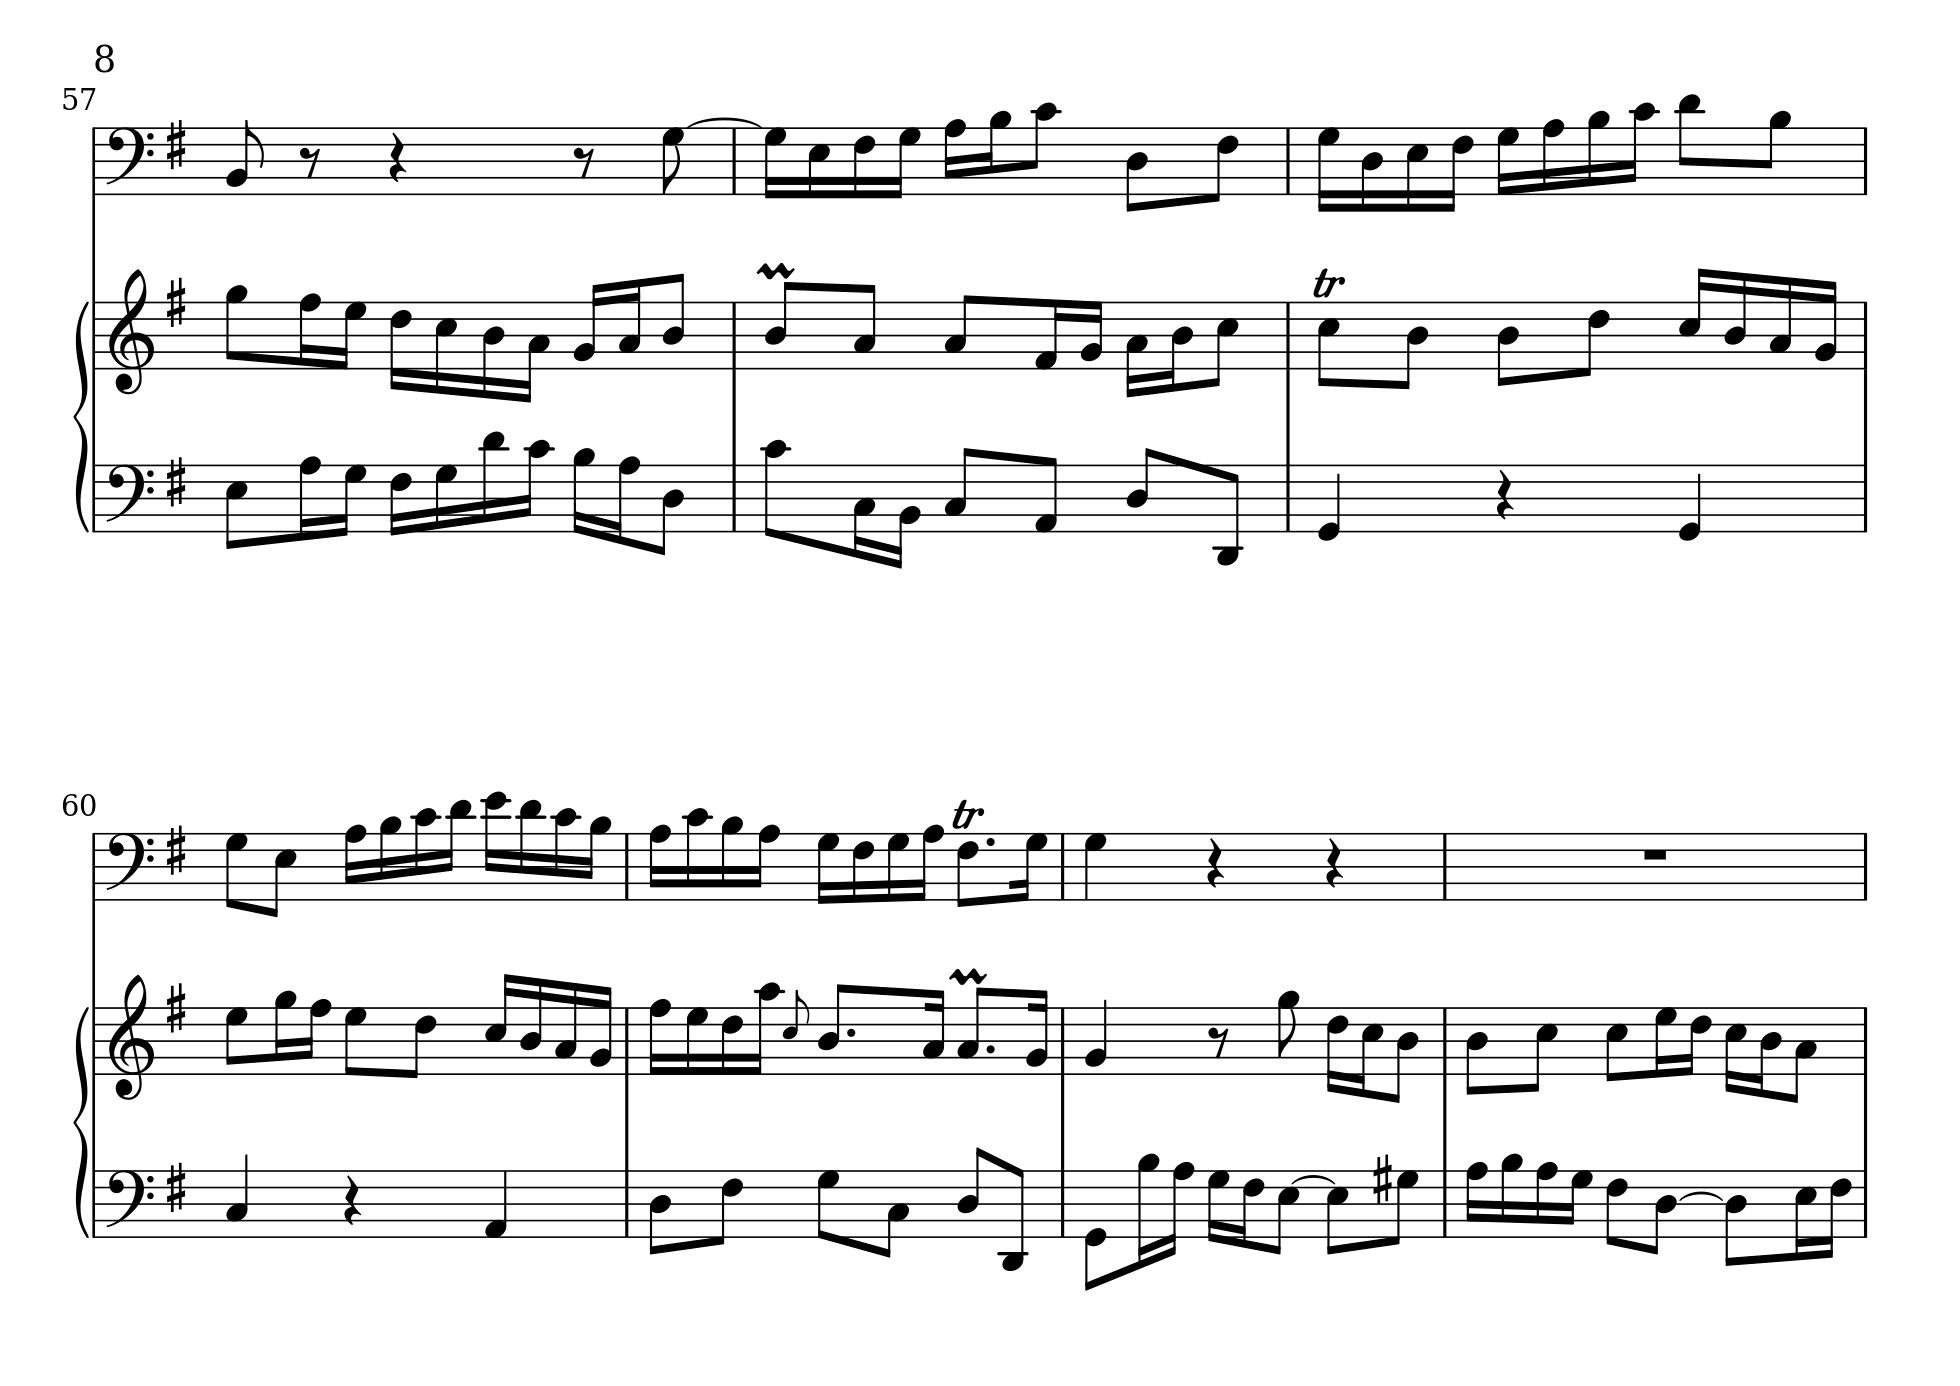0: (79, 790, 96, 817)
16_1: (1032, 298, 1065, 372)
16_10: (747, 979, 783, 1078), (1623, 100, 1659, 196), (520, 438, 553, 534), (550, 805, 580, 901), (682, 805, 712, 901), (411, 805, 439, 901)
16_11: (441, 798, 474, 901), (478, 430, 508, 534), (516, 798, 544, 901)
16_12: (481, 790, 508, 901)
16_2: (889, 463, 922, 570), (571, 280, 604, 370), (588, 982, 613, 1075), (1024, 987, 1050, 1075), (1815, 277, 1839, 370), (1080, 298, 1104, 370)
16_3: (519, 298, 550, 403), (1767, 273, 1794, 370), (852, 462, 877, 562), (553, 979, 579, 1075), (919, 987, 946, 1075), (1125, 300, 1149, 399), (616, 277, 642, 370)
16_4: (1164, 298, 1194, 393), (1753, 1003, 1782, 1099), (480, 298, 505, 400), (1723, 270, 1749, 370), (519, 976, 544, 1075), (1359, 124, 1386, 214)
16_5: (1677, 265, 1713, 370), (484, 970, 516, 1075), (433, 298, 459, 396), (1404, 124, 1429, 213), (1723, 1003, 1747, 1093), (1794, 1168, 1816, 1260), (805, 124, 831, 201)
16_6: (1440, 124, 1474, 213), (1819, 1167, 1852, 1258), (1236, 1168, 1264, 1249), (388, 298, 412, 391), (1326, 1003, 1350, 1093), (1683, 1005, 1713, 1075), (850, 124, 876, 199), (850, 829, 876, 904), (718, 1003, 744, 1078), (388, 462, 412, 537)
16_7: (1011, 831, 1048, 903), (334, 462, 367, 538), (888, 124, 921, 199), (334, 298, 367, 370), (1563, 1167, 1594, 1239), (1317, 124, 1341, 216), (814, 829, 840, 907), (883, 829, 910, 903), (684, 1003, 709, 1078), (1495, 124, 1521, 198), (432, 460, 457, 534), (763, 124, 787, 202), (1206, 1167, 1230, 1245), (1653, 1003, 1677, 1078)
16_8: (1162, 1159, 1194, 1258), (607, 454, 640, 547), (748, 823, 781, 901), (913, 823, 943, 901), (301, 997, 331, 1075), (940, 117, 967, 196), (646, 822, 673, 901), (646, 996, 673, 1075), (1533, 1159, 1560, 1239), (297, 454, 321, 541), (1540, 117, 1566, 196), (297, 292, 322, 370), (342, 823, 367, 901), (1464, 1159, 1489, 1237)
16_9: (1135, 1150, 1161, 1267), (981, 109, 1012, 196), (583, 814, 613, 901), (376, 814, 403, 901), (1585, 108, 1611, 196), (718, 814, 744, 903), (1498, 1150, 1524, 1239), (271, 988, 297, 1075), (571, 445, 595, 537)
4_0: (1678, 462, 1704, 543), (1317, 462, 1342, 541)
4_1: (481, 1168, 508, 1240)
4_2: (1083, 997, 1110, 1075)
4_3: (225, 1152, 250, 1237)
4_7: (1083, 831, 1108, 901)
5: (61, 84, 78, 111)
6: (61, 790, 79, 817)
7: (79, 85, 97, 111)
8: (94, 40, 115, 73)
8_-3: (999, 1164, 1029, 1272), (1215, 463, 1243, 565)
8_0: (1083, 1168, 1107, 1291)
8_1: (1032, 454, 1059, 535)
8_10: (1026, 100, 1060, 196), (760, 436, 790, 541)
8_11: (1675, 91, 1704, 196)
8_2: (225, 118, 265, 195)
8_3: (876, 1168, 910, 1258), (943, 445, 976, 534), (1789, 1005, 1818, 1105), (955, 985, 987, 1075), (942, 292, 976, 370), (850, 282, 877, 372)
8_4: (1395, 298, 1431, 391), (1389, 1005, 1420, 1104), (652, 463, 685, 556), (817, 982, 850, 1075), (763, 280, 796, 370), (955, 1144, 987, 1237), (1125, 445, 1158, 534), (1645, 1168, 1677, 1255), (1723, 1168, 1749, 1267), (1494, 298, 1521, 388), (661, 271, 685, 370), (646, 1168, 673, 1255), (1465, 1006, 1491, 1096), (1123, 126, 1149, 214)
8_5: (1524, 1005, 1560, 1093), (1207, 298, 1240, 388), (1269, 1168, 1302, 1255), (267, 829, 298, 919), (1354, 1005, 1383, 1098), (1315, 298, 1341, 388), (223, 462, 249, 550), (1326, 1168, 1350, 1255), (1605, 1005, 1629, 1083)
8_6: (1575, 298, 1611, 379), (708, 1167, 744, 1246), (1204, 124, 1239, 205), (402, 1003, 438, 1078), (955, 831, 981, 909), (1605, 1168, 1629, 1248)
8_7: (1386, 1167, 1419, 1246), (223, 829, 249, 910), (814, 1168, 841, 1243), (660, 126, 685, 196), (223, 1005, 249, 1075), (343, 1005, 367, 1077)
8_9: (1758, 109, 1792, 196), (1275, 988, 1300, 1075), (223, 283, 247, 370)
Appoggiature: (781, 988, 808, 1077)
Brace: (70, 1003, 91, 1240), (70, 298, 91, 532)
Fclef: (100, 124, 154, 196), (100, 829, 154, 901), (103, 460, 154, 534), (103, 1167, 154, 1237)
Gclef: (106, 973, 156, 1099), (106, 268, 154, 394)
Rests1: (1639, 844, 1671, 862)
Rests4: (1323, 835, 1345, 892), (1204, 835, 1227, 891), (1494, 466, 1516, 520), (387, 130, 408, 184), (342, 1173, 361, 1227)
Rests8: (297, 144, 322, 178), (571, 144, 595, 178), (1207, 1024, 1230, 1057)
Sharp: (162, 822, 190, 877), (162, 117, 189, 172), (163, 454, 189, 510), (163, 979, 189, 1033), (163, 274, 187, 328), (163, 1159, 187, 1213), (1371, 1152, 1393, 1204)
ShortTrill: (754, 259, 796, 280), (946, 964, 988, 985)
Single_barline: (1855, 832, 1875, 900), (1279, 124, 1297, 193), (726, 127, 744, 193), (1857, 127, 1875, 193), (1857, 1005, 1873, 1075), (619, 1006, 636, 1075), (1437, 1168, 1453, 1237), (1857, 1168, 1873, 1237), (726, 301, 742, 369), (618, 832, 634, 900), (618, 1170, 634, 1237), (1281, 301, 1297, 367), (1857, 465, 1873, 531), (1056, 832, 1072, 898), (87, 127, 102, 195), (1858, 301, 1873, 369), (1437, 832, 1452, 900), (87, 832, 102, 900), (1056, 1006, 1071, 1074), (1437, 1006, 1452, 1074), (727, 463, 742, 529), (1281, 463, 1296, 529), (1056, 1170, 1071, 1236), (88, 1006, 102, 1075), (88, 301, 102, 369), (88, 465, 102, 531), (88, 1170, 102, 1236)
Slur: (685, 115, 763, 127), (1290, 1171, 1336, 1186), (1678, 1189, 1723, 1203)
Trill: (949, 795, 987, 829), (1309, 265, 1347, 298)
dot: (844, 1024, 858, 1039), (984, 834, 997, 847), (984, 1041, 997, 1054)
